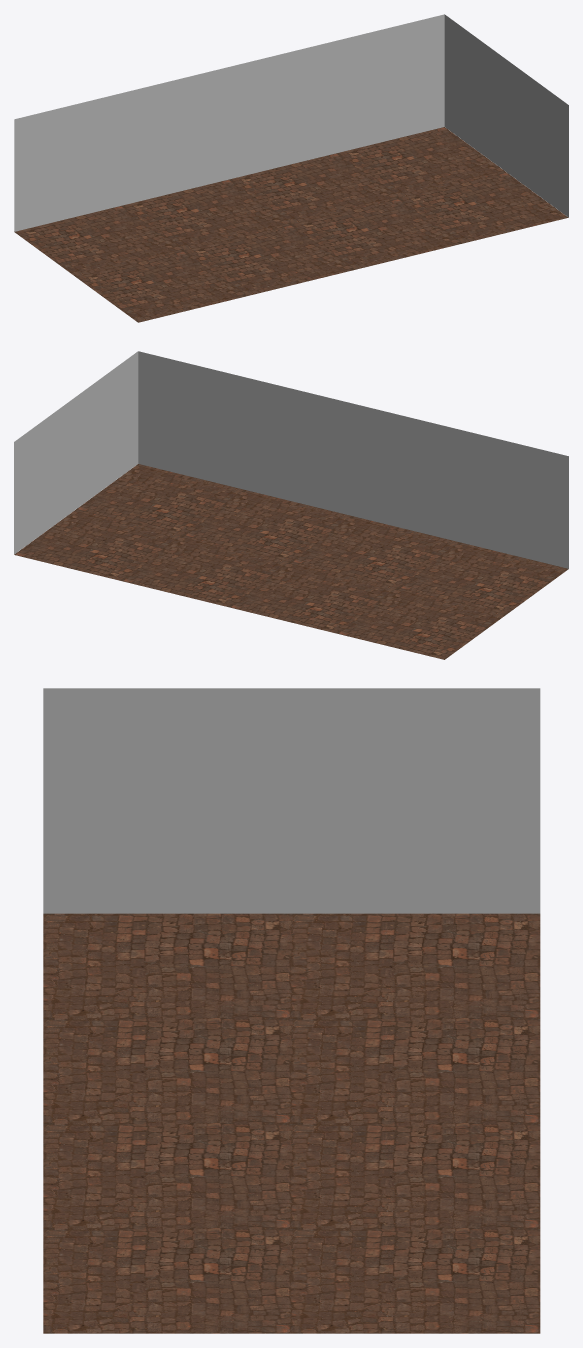
File: dungeon-room.gltf
The picture shows the model from 3 angles, top to bottom: view 1: azimuth 30°, elevation 25°; view 2: azimuth 150°, elevation 25°; view 3: azimuth 270°, elevation 25°; orthographic projection. The views are drawn at different scales.
Parts seen in each view (by area): view 1: Wall.011, Wall.008, Wall.009, Wall.010, Wall.006, Wall.007, BrickFloor.004, BrickFloor.002, BrickFloor, BrickFloor.006, BrickFloor.001, BrickFloor.005 (+2 smaller); view 2: Wall.003, Wall.004, Wall.002, Wall.005, Wall.007, Wall.006, BrickFloor.001, BrickFloor.005, BrickFloor.006, BrickFloor, BrickFloor.002, BrickFloor.004 (+2 smaller); view 3: Wall, Wall.001, BrickFloor, BrickFloor.002, BrickFloor.004, BrickFloor.006, BrickFloor.001, BrickFloor.003, BrickFloor.005, BrickFloor.007.
Boxes of the visible parts, x1,y1,x2,y2 form: Wall.011: [14, 93, 121, 231]; Wall.008: [337, 14, 444, 152]; Wall.009: [229, 40, 336, 179]; Wall.010: [122, 67, 229, 205]; Wall.006: [444, 14, 506, 171]; Wall.007: [507, 60, 568, 217]; BrickFloor.004: [76, 251, 245, 322]; BrickFloor.002: [399, 172, 568, 243]; BrickFloor: [291, 198, 460, 270]; BrickFloor.006: [184, 225, 352, 296]; BrickFloor.001: [229, 153, 398, 224]; BrickFloor.005: [14, 205, 182, 277]; Wall.003: [353, 404, 461, 542]; Wall.004: [246, 377, 353, 516]; Wall.002: [461, 430, 568, 568]; Wall.005: [138, 351, 245, 489]; Wall.007: [76, 351, 138, 508]; Wall.006: [14, 397, 76, 554]; BrickFloor.001: [122, 535, 290, 607]; BrickFloor.005: [337, 588, 506, 659]; BrickFloor.006: [292, 516, 460, 587]; BrickFloor: [184, 490, 353, 561]; BrickFloor.002: [76, 464, 245, 535]; BrickFloor.004: [399, 542, 568, 614]; Wall: [43, 688, 291, 913]; Wall.001: [292, 688, 540, 913]; BrickFloor: [43, 1123, 291, 1228]; BrickFloor.002: [43, 1228, 291, 1333]; BrickFloor.004: [43, 913, 291, 1018]; BrickFloor.006: [43, 1018, 291, 1123]; BrickFloor.001: [292, 1123, 540, 1228]; BrickFloor.003: [292, 1228, 540, 1333]; BrickFloor.005: [292, 913, 540, 1018]; BrickFloor.007: [292, 1018, 540, 1123].
Bounding box in the file's own units: 32.01 × 8 × 16.02.
